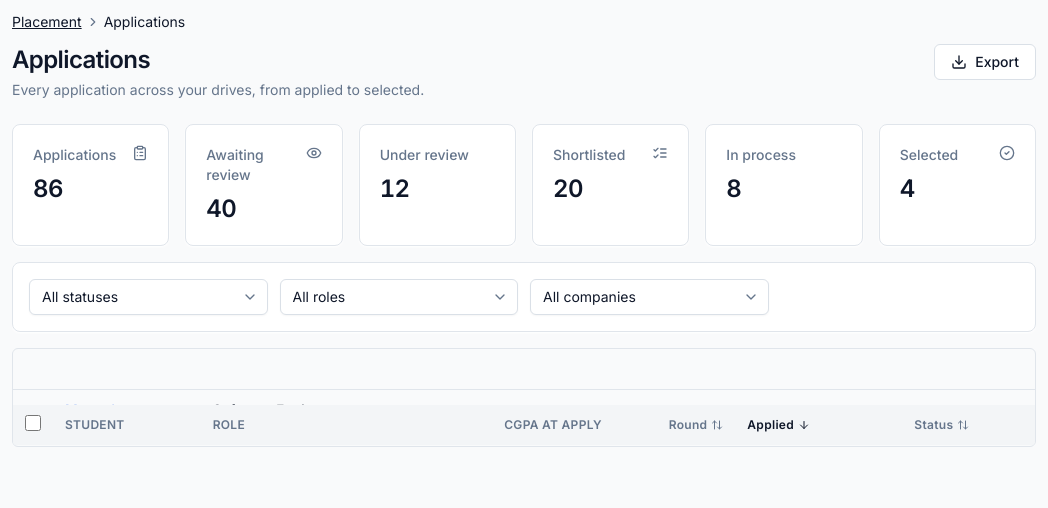
Test: Applications page › refetches with a status filter and resets to page one
expect the link "Meera Iyer" is shown: met, box [65,400,137,418]
Select "Shortlisted" in the dropdown named "Filter by status" at (148, 297), box [29,279,268,315]
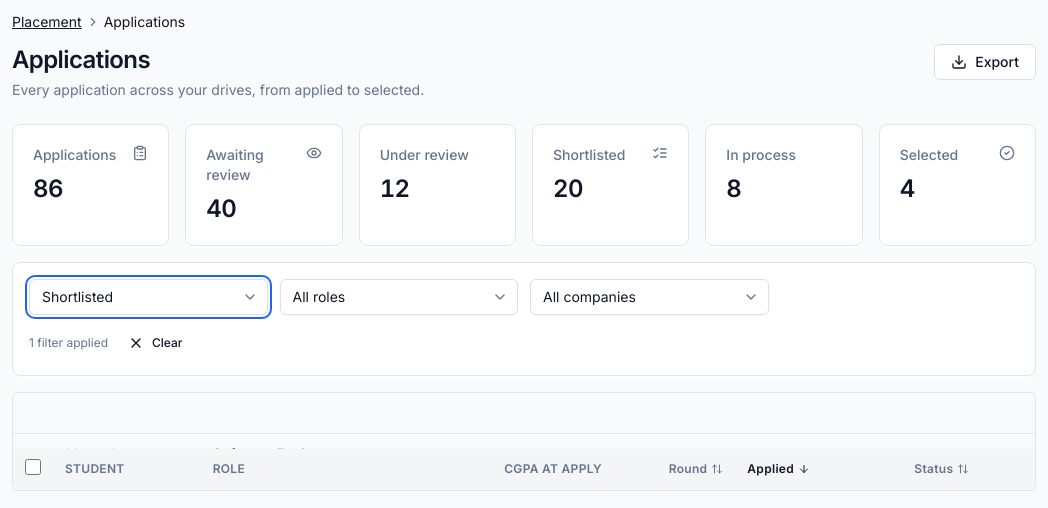
expect the text "1 filter applied" is shown: met, box [29,335,108,351]
